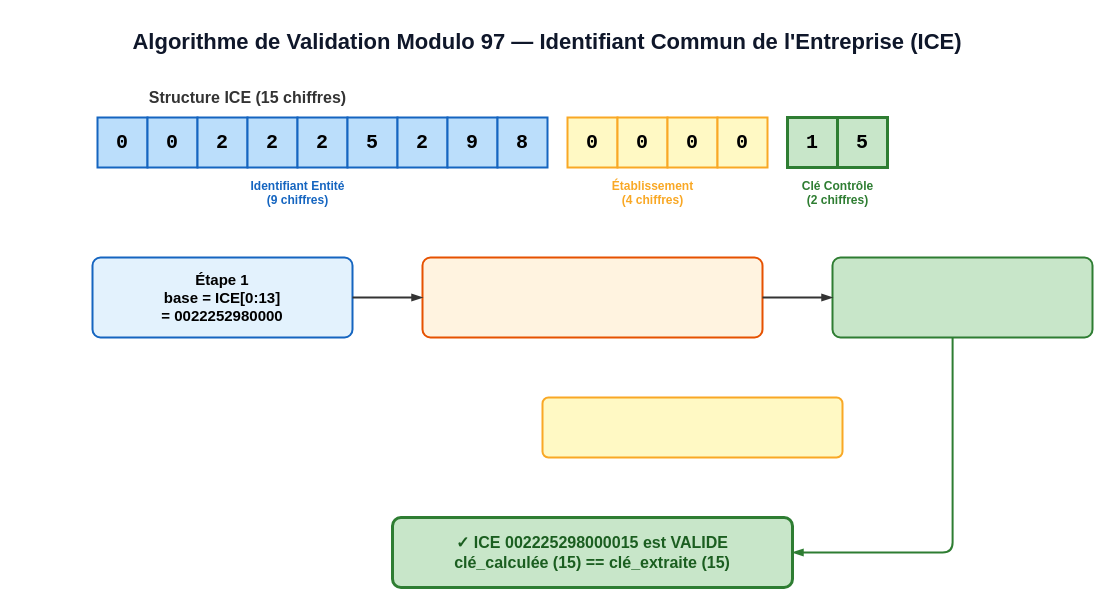
The diagram is 1110 pixels wide and 606 high, and some of its shapes have lost their labels. The centre of each missing label's shape, as x and y in pixels:
Étape 2 remainder = (base × 100) mod 97 = (22252980000 × 100) mod 97 = 82: point 592,297
Étape 3 clé = 97 − remainder = 97 − 82 = 15 ✓: point 962,297
⚠ Cas spécial : Si clé calculée = 97, stocker comme 00: point 692,427
